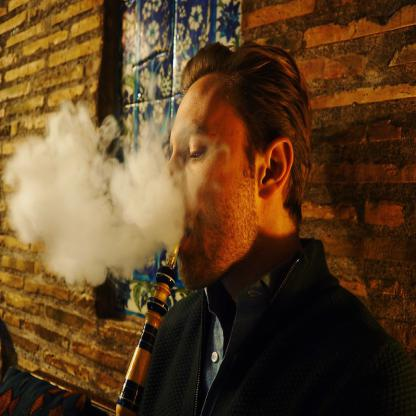smoking: (146, 226, 186, 315)
